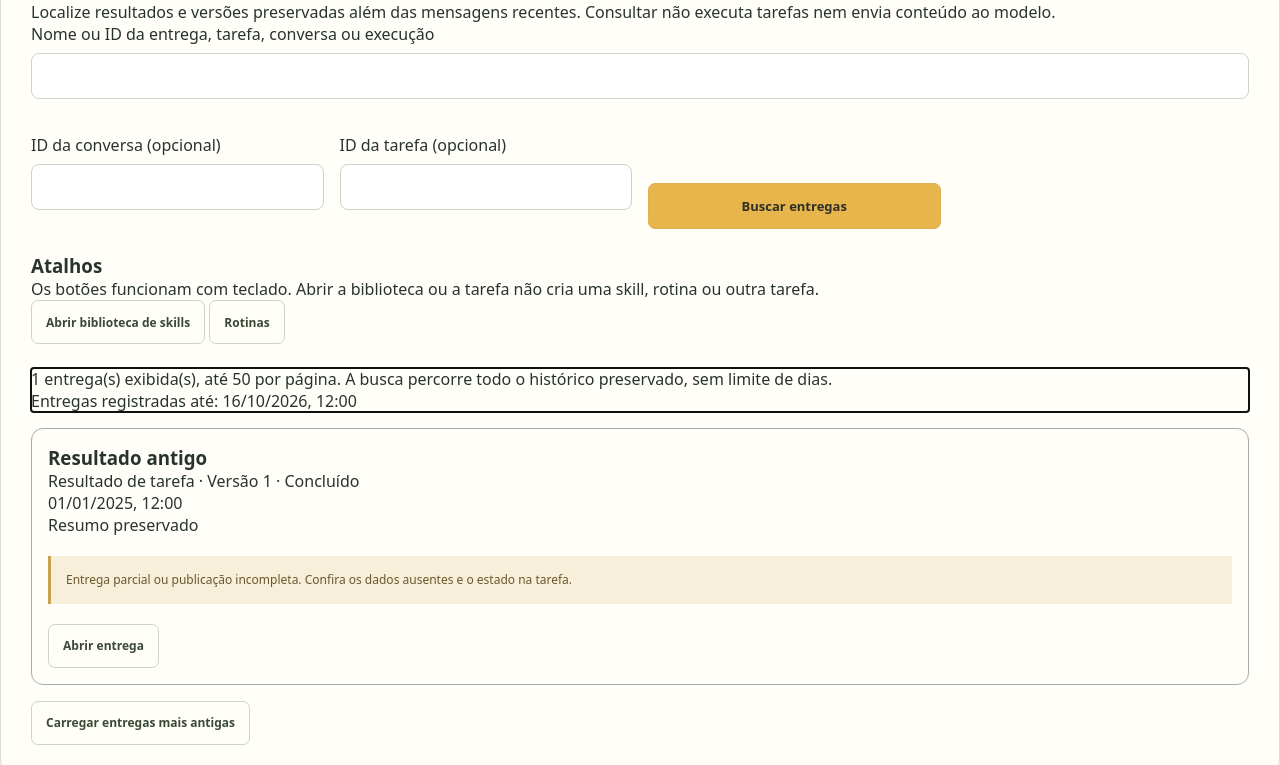
it: delivery history with actual React state and native controls › focuses the page summary after loading the final older page
This screenshot has width=1280, height=765.
(page scrolled)
Click the button "Carregar entregas mais antigas" at point(141, 723), box top-left (31, 701), bottom-right (250, 745)
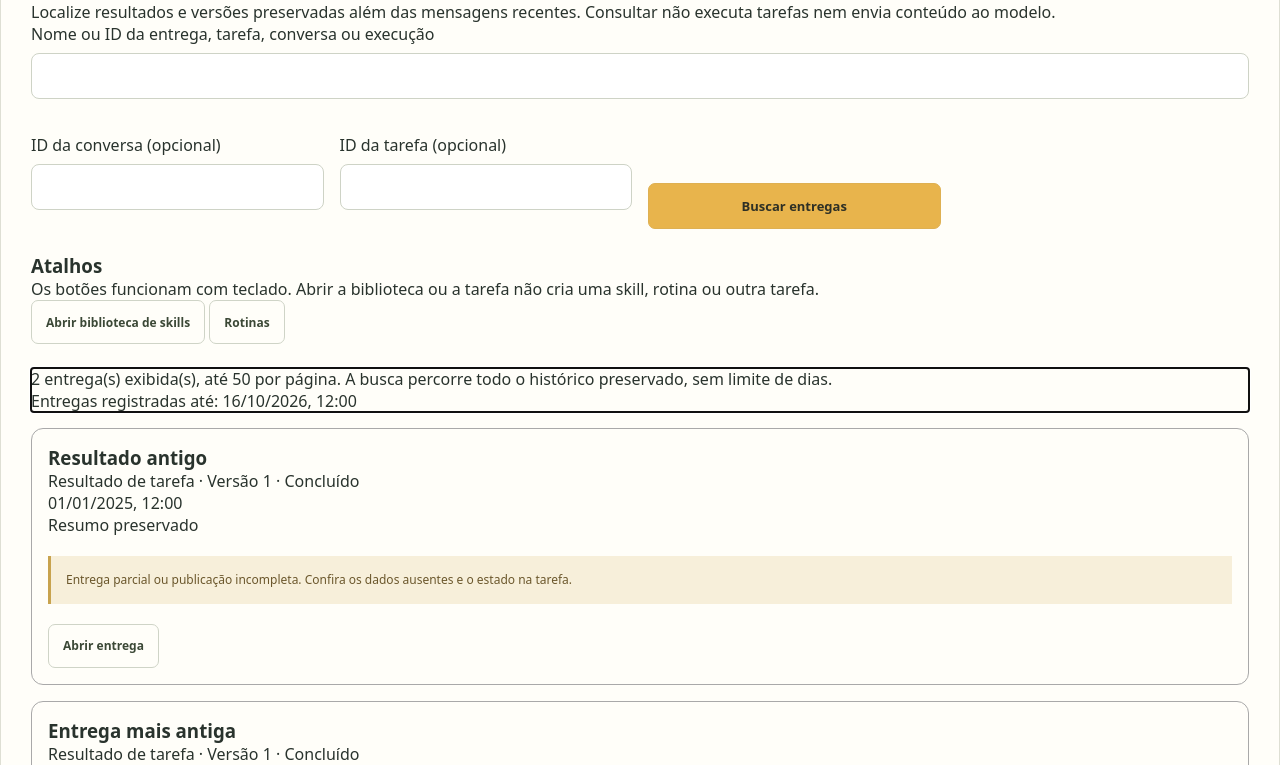
Expected: the text "Entrega mais antiga" is shown, top-left (48, 718), bottom-right (236, 743)
